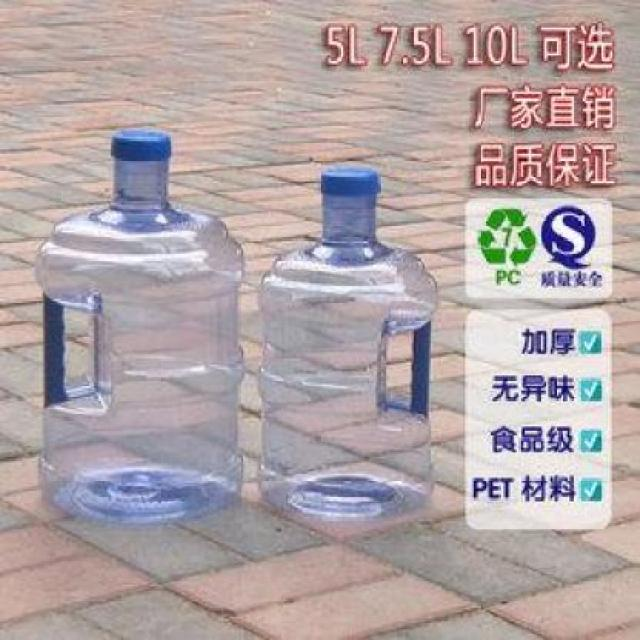coolerbottle: (28, 122, 244, 526), (257, 160, 445, 538)
